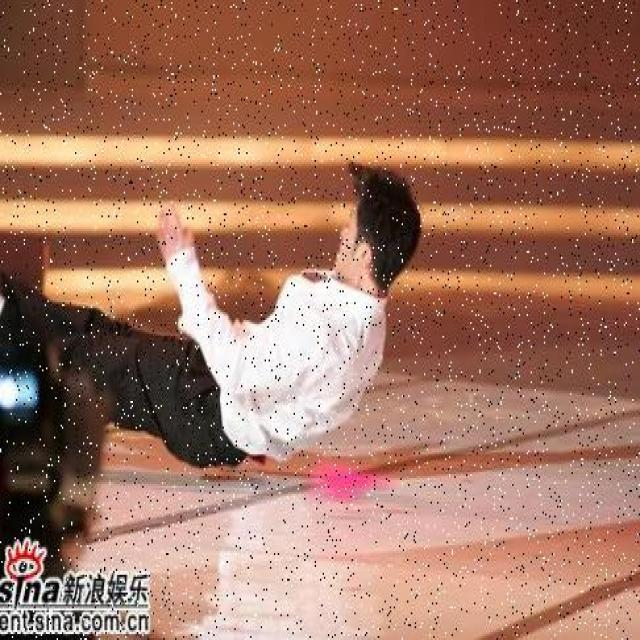fall: (16, 178, 411, 462)
